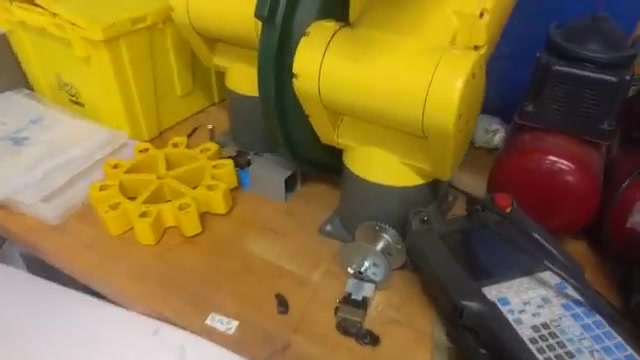gear: (93, 132, 239, 250)
